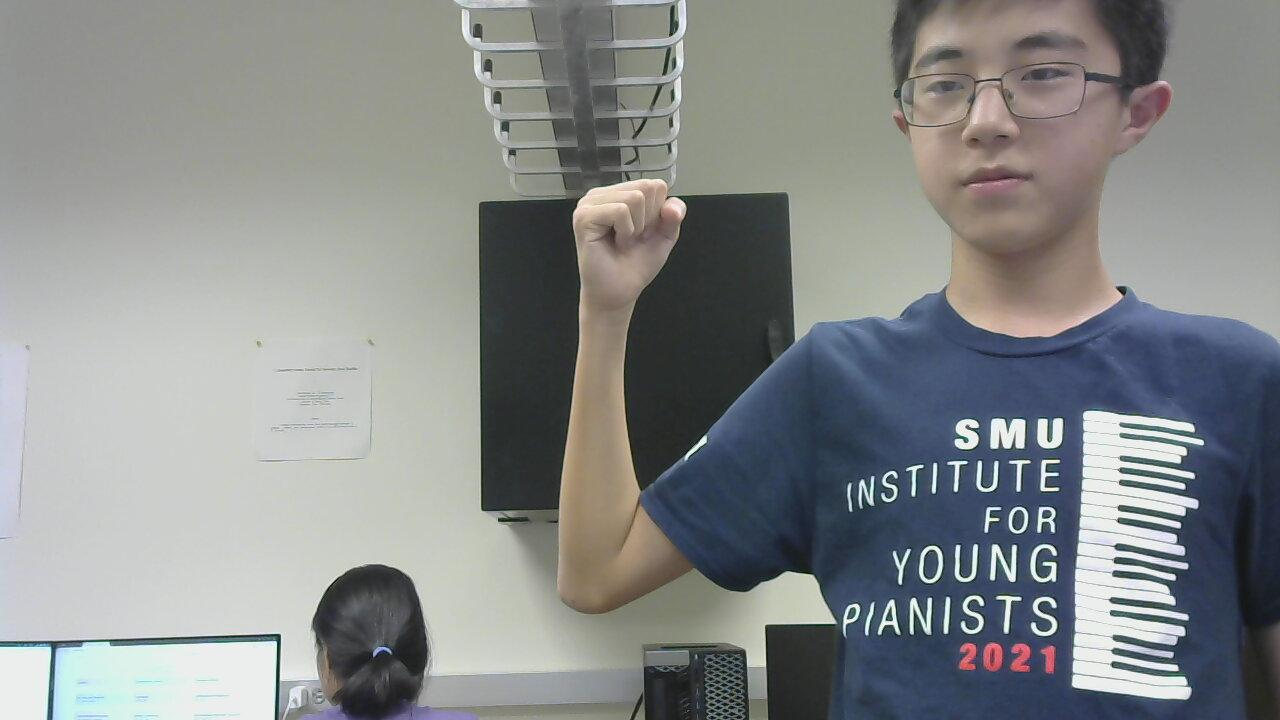fist: (572, 171, 682, 295)
